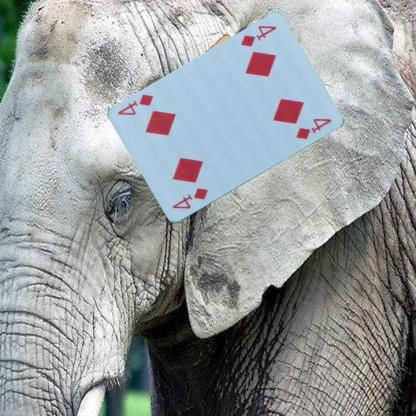4d: (169, 185, 209, 211), (238, 23, 278, 49)
